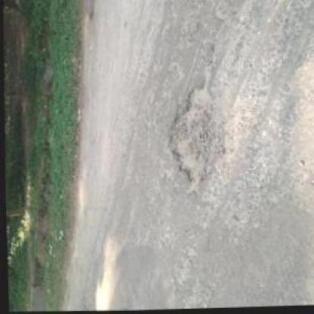Hueco: (162, 76, 226, 198)
